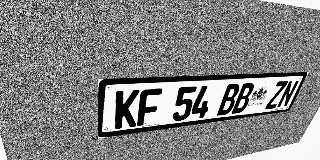4: (189, 85, 215, 119)
5: (172, 86, 197, 122)
B: (216, 84, 241, 116), (231, 83, 256, 114)
F: (137, 88, 162, 126)
K: (114, 89, 140, 129)
N: (276, 80, 299, 108)
Z: (264, 81, 288, 109)
